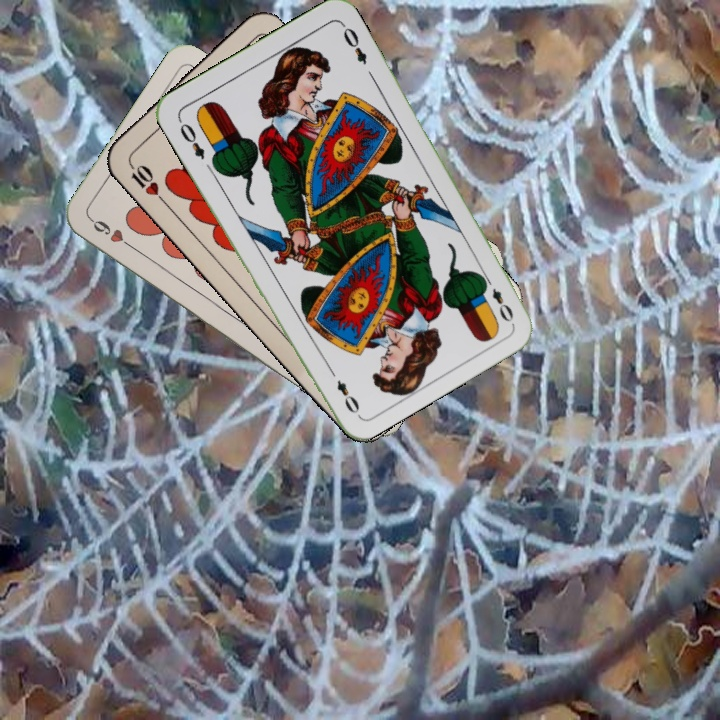EO: (479, 271, 516, 325), (174, 115, 208, 162)
H10: (124, 157, 168, 206)
H9: (86, 214, 138, 253)
